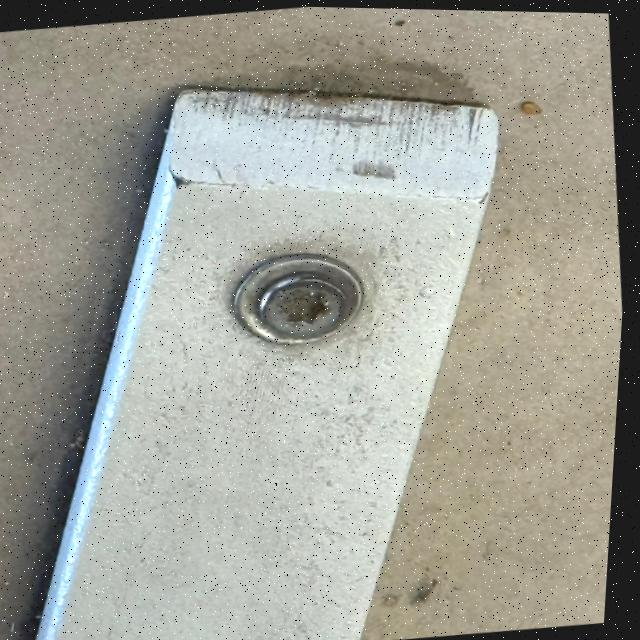Torx: (249, 266, 366, 349)
